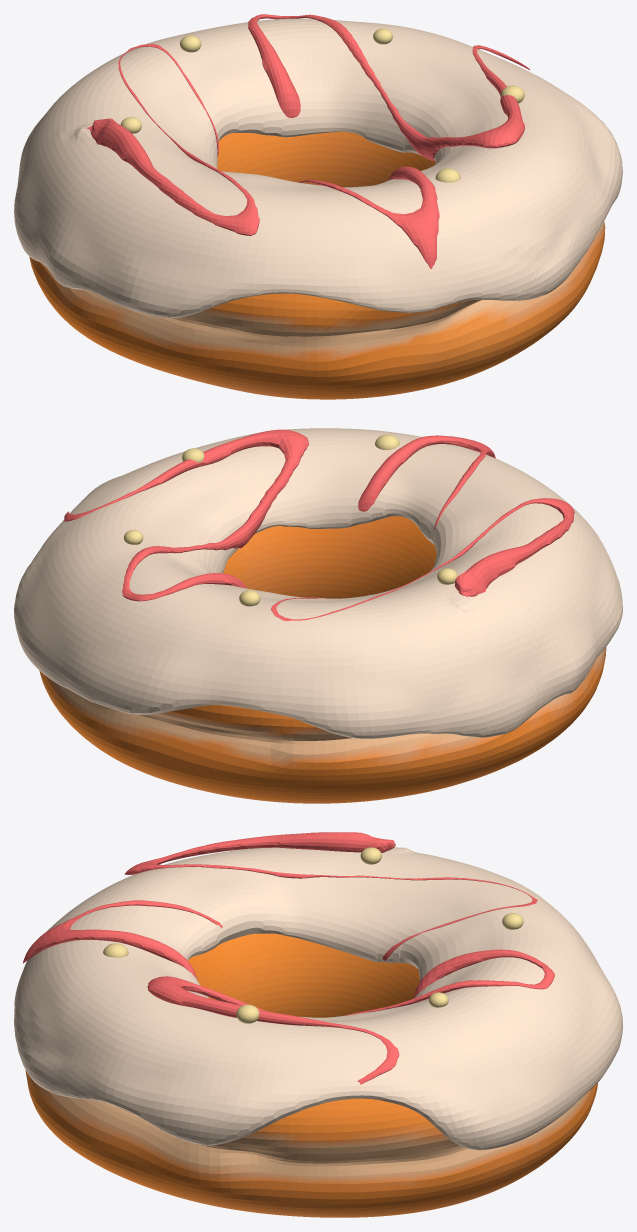
Rendered from Donut_03.glb.
The picture shows the model from 3 angles, top to bottom: view 1: azimuth 30°, elevation 25°; view 2: azimuth 150°, elevation 25°; view 3: azimuth 270°, elevation 25°; orthographic projection.
Visible parts, largest first — view 1: Chocolate, Donnt, Chocolate ext; view 2: Chocolate, Donnt, Chocolate ext; view 3: Chocolate, Donnt, Chocolate ext.
Part boxes in pixels (x1=…): Chocolate: x1=14, y1=18, x2=622, y2=318; Donnt: x1=29, y1=131, x2=605, y2=399; Chocolate ext: x1=86, y1=14, x2=529, y2=268; Chocolate: x1=14, y1=428, x2=622, y2=738; Donnt: x1=39, y1=516, x2=606, y2=803; Chocolate ext: x1=64, y1=429, x2=574, y2=620; Chocolate: x1=14, y1=847, x2=622, y2=1150; Donnt: x1=25, y1=933, x2=597, y2=1217; Chocolate ext: x1=23, y1=832, x2=554, y2=1084.
Size of the model in its own units: 1.85 by 0.7102 by 1.88.
